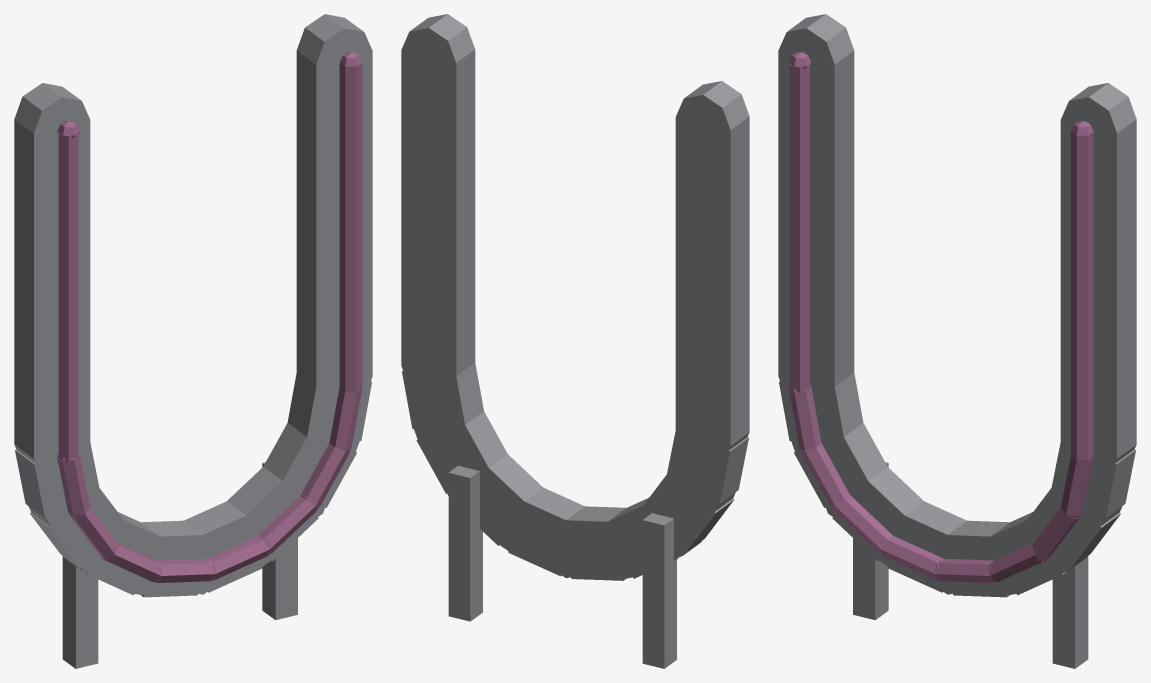
Rendered from HJ_Neon_U.fbx.
3 views of the same model, side by side, from view 1: azimuth 30°, elevation 25°; view 2: azimuth 150°, elevation 25°; view 3: azimuth 330°, elevation 25° (orthographic). The views are drawn at different scales.
Visible parts, largest first — view 1: HJ_Neon_U; view 2: HJ_Neon_U; view 3: HJ_Neon_U.
Part boxes in pixels (x1,y1,x2,y2): HJ_Neon_U: [14, 14, 372, 668]; HJ_Neon_U: [401, 14, 749, 668]; HJ_Neon_U: [778, 14, 1136, 668].
Bounding box in the file's own units: 1.2 × 2 × 0.255.
